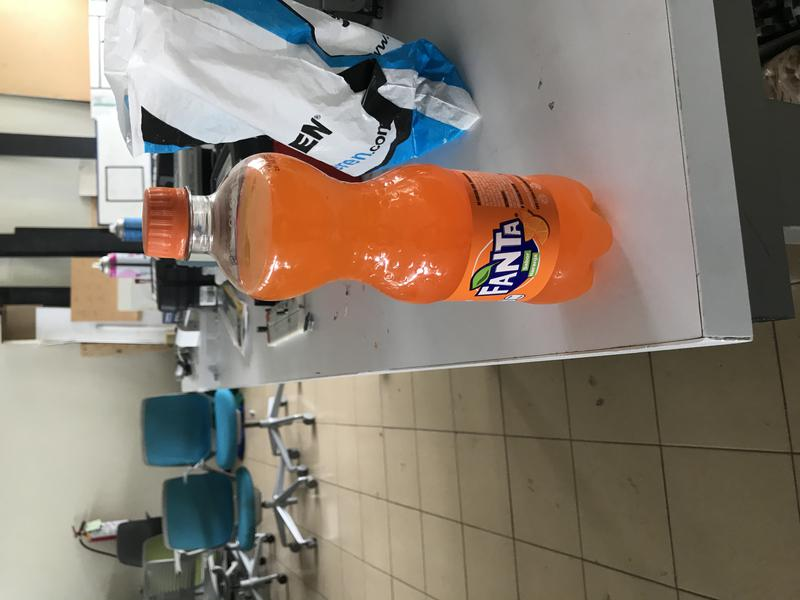fanta: (143, 153, 612, 306)
